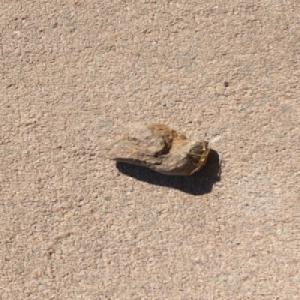Rock: (94, 121, 211, 175)
